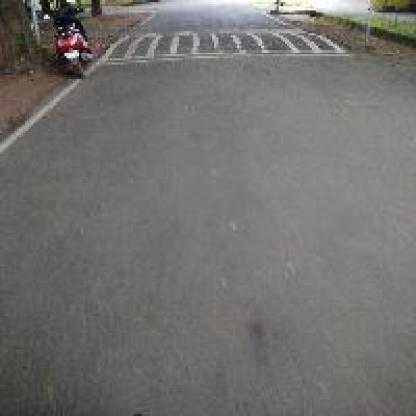Speed Bump: (94, 25, 352, 64)
